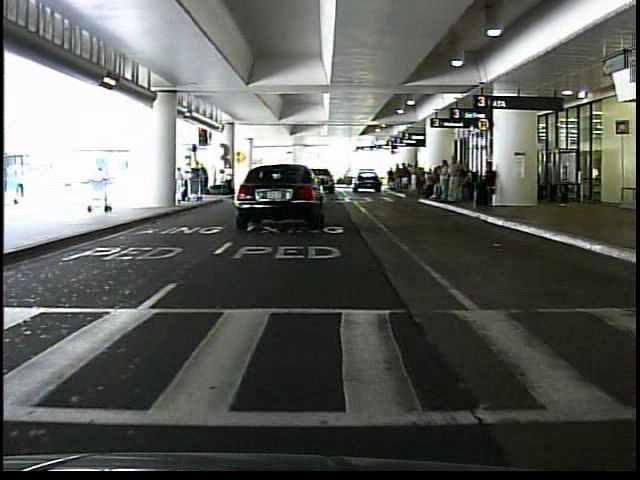person: (445, 152, 467, 209)
